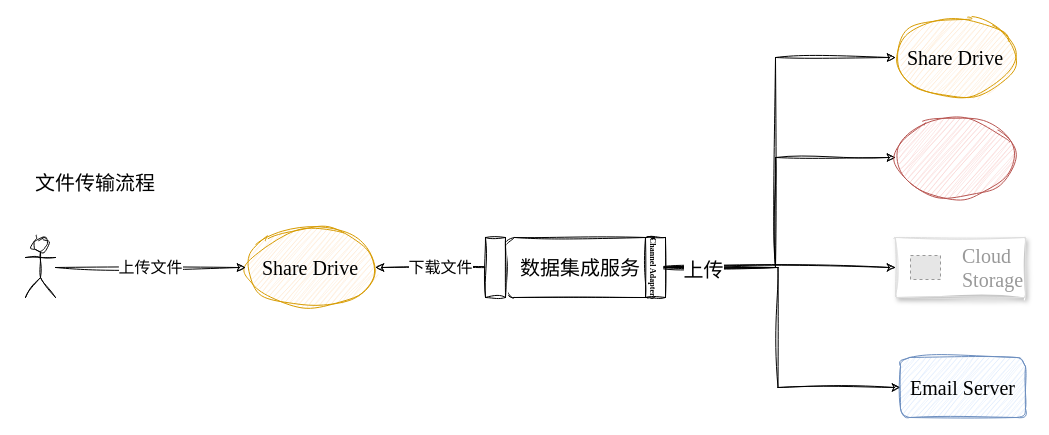
Image size: 1049x435. Some labels were removed from this diagram. Grey dashed boxes stand in for pictures. Each missing label, with the centre of its shape:
Actor: (x=40, y=267)
Linux Server: (x=955, y=157)
Smb Adapter: (x=495, y=267)
